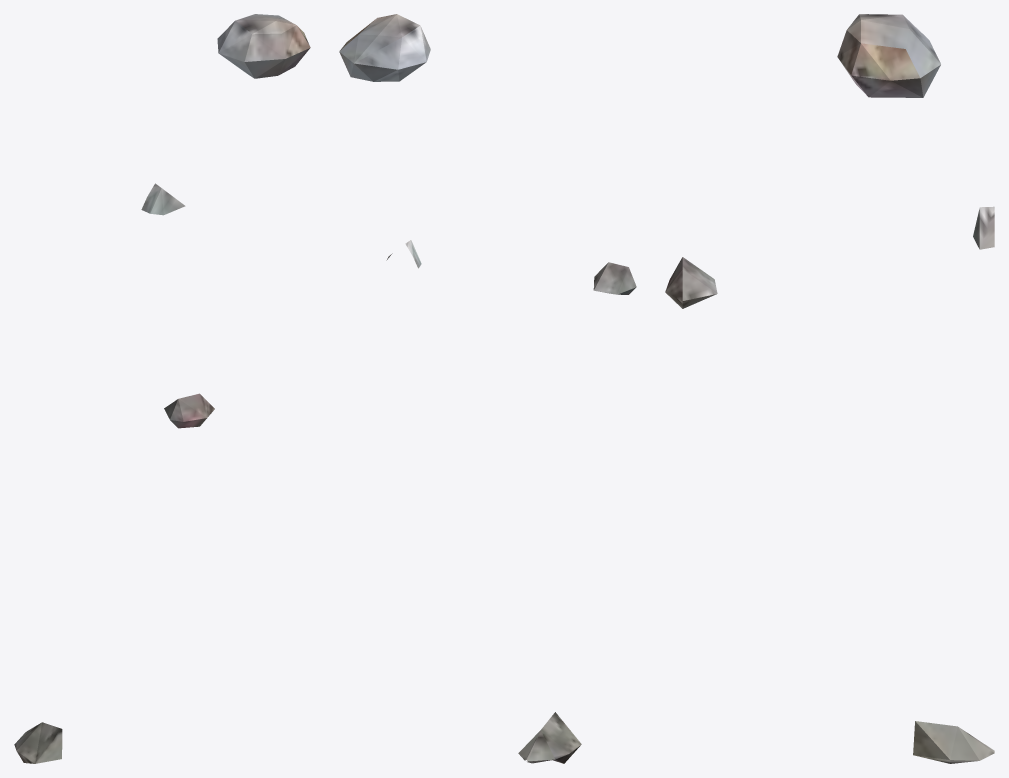
3 views of the same model, side by side, from view 1: azimuth 30°, elevation 25°; view 2: azimuth 150°, elevation 25°; view 3: azimuth 270°, elevation 25° (orthographic). The views are drawn at different scales.
Bounding box in the file's own units: 0.23 × 0.6009 × 0.209.
1 material, 1 textured.
